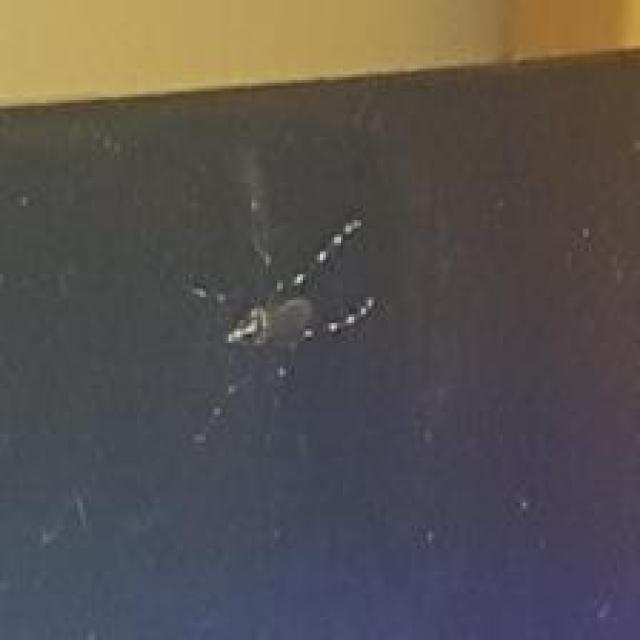Aedes albopictus: (183, 187, 383, 447)
